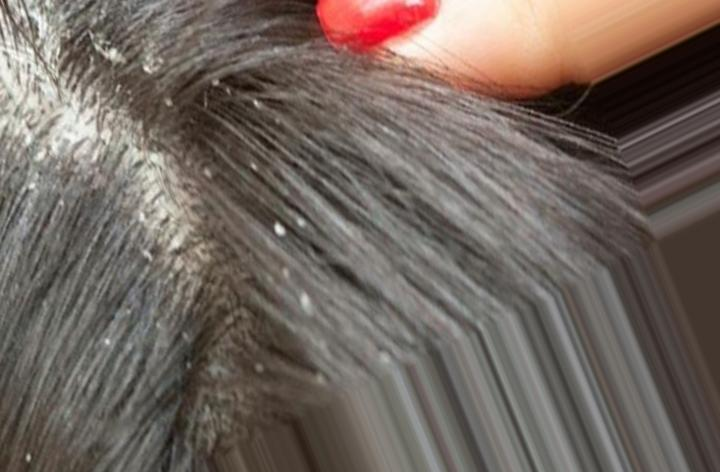Contact Dermatitis: (22, 63, 368, 399)
